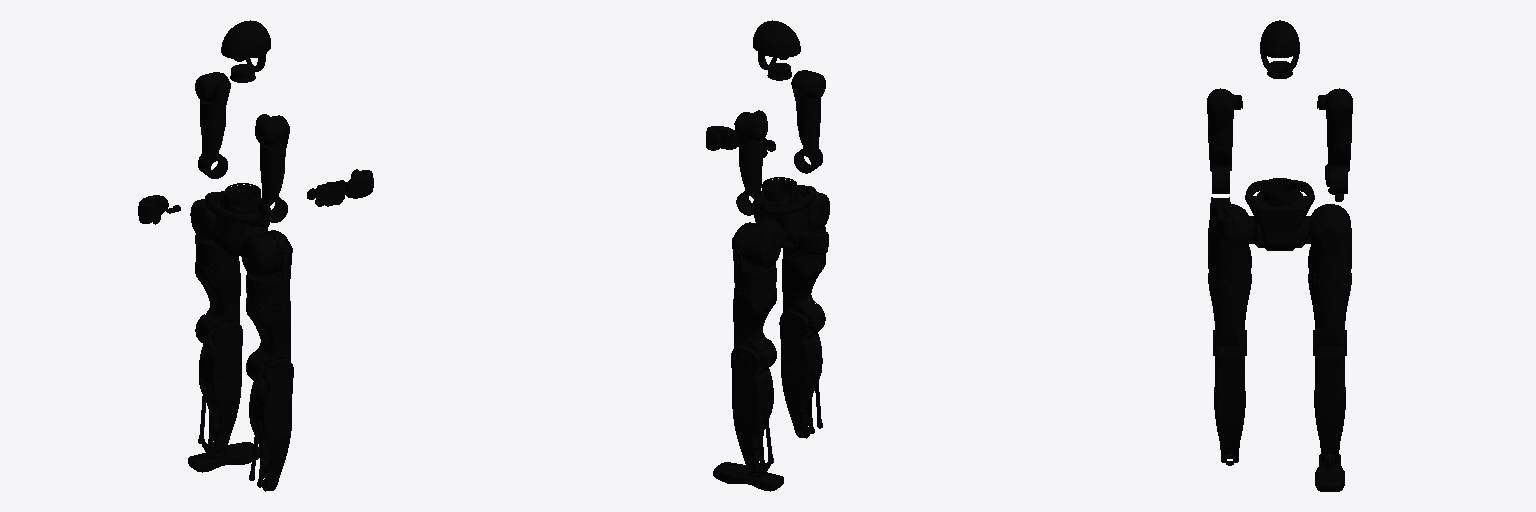
--- What the picture shows (computed from the rendered views, not written in the file) ---
Views: 3 orthographic renders of the robot side by side, from view 1: azimuth 30°, elevation 25°; view 2: azimuth 150°, elevation 25°; view 3: azimuth 270°, elevation 25°.
Robot: lus2 — 29 links, 28 joints (28 revolute); root link pelvis; default pose: all joints at 0.
Links seen in each view (by area): view 1: left_knee_link, right_knee_link, pelvis, left_hip_yaw_link, right_hip_yaw_link, head_link, right_hip_roll_link, right_hip_pitch_link, left_ankle_roll_link, right_shoulder_roll_link, right_shoulder_yaw_link, left_shoulder_yaw_link (+8 smaller); view 2: right_knee_link, left_knee_link, pelvis, left_hip_yaw_link, right_hip_yaw_link, head_link, left_hip_roll_link, left_hip_pitch_link, left_ankle_roll_link, left_shoulder_roll_link, left_shoulder_yaw_link, right_shoulder_yaw_link (+5 smaller); view 3: pelvis, left_knee_link, right_knee_link, left_hip_roll_link, right_hip_yaw_link, left_hip_yaw_link, right_hip_roll_link, head_link, right_shoulder_roll_link, left_shoulder_roll_link, left_shoulder_yaw_link, right_shoulder_yaw_link (+3 smaller).
Link boxes in pixels (<box>): left_knee_link: <box>198,320,242,453</box>; right_knee_link: <box>249,357,293,490</box>; pelvis: <box>205,183,270,256</box>; left_hip_yaw_link: <box>195,261,240,352</box>; right_hip_yaw_link: <box>246,297,290,389</box>; head_link: <box>221,20,270,82</box>; right_hip_roll_link: <box>246,230,292,304</box>; right_hip_pitch_link: <box>238,227,281,277</box>; left_ankle_roll_link: <box>188,440,259,472</box>; right_shoulder_roll_link: <box>260,115,289,174</box>; right_shoulder_yaw_link: <box>257,172,287,222</box>; left_shoulder_yaw_link: <box>198,128,227,178</box>; right_knee_link: <box>779,308,822,437</box>; left_knee_link: <box>731,344,773,473</box>; pelvis: <box>752,177,816,247</box>; left_hip_yaw_link: <box>733,288,776,375</box>; right_hip_yaw_link: <box>782,251,825,339</box>; head_link: <box>753,20,800,80</box>; left_hip_roll_link: <box>732,222,776,293</box>; left_hip_pitch_link: <box>742,219,784,268</box>; left_ankle_roll_link: <box>713,461,783,491</box>; left_shoulder_roll_link: <box>734,112,762,168</box>; left_shoulder_yaw_link: <box>736,166,765,215</box>; right_shoulder_yaw_link: <box>794,124,822,173</box>; pelvis: <box>1245,178,1314,250</box>; left_knee_link: <box>1313,330,1346,462</box>; right_knee_link: <box>1213,330,1246,462</box>; left_hip_roll_link: <box>1308,212,1351,280</box>; right_hip_yaw_link: <box>1208,273,1251,346</box>; left_hip_yaw_link: <box>1308,273,1351,346</box>; right_hip_roll_link: <box>1208,212,1251,280</box>; head_link: <box>1260,20,1299,78</box>; right_shoulder_roll_link: <box>1207,91,1234,148</box>; left_shoulder_roll_link: <box>1325,91,1352,148</box>; left_shoulder_yaw_link: <box>1327,144,1350,193</box>; right_shoulder_yaw_link: <box>1209,145,1232,193</box>.
Bounding box of the posed robot: 0.6577 × 0.4688 × 1.6 m (x, y, z).
Meshes: 31 distinct files referenced, 23 mesh visuals loaded (23 binary STL); not drawn: 8 (reference not matched to a file when rendering).

The robot description file, URDF, robot "lus2":
<?xml version="1.0" encoding="utf-8"?>
<!-- This URDF was automatically created by SolidWorks to URDF Exporter! Originally created by Stephen Brawner ([email redacted]) 
     Commit Version: 1.6.0-4-g7f85cfe  Build Version: 1.6.7995.38578
     For more information, please see http://wiki.ros.org/sw_urdf_exporter -->
<robot name="lus2">
  <mujoco>
        <compiler meshdir="../meshes" discardvisual="false" />
  </mujoco>
  
  <!-- <link name="base">
    <inertial>
      <origin xyz="0 0 0" rpy="0 0 0" />
      <mass value="0.0001" />
      <inertia
        ixx="0.0000000"
        ixy="0.0000000"
        ixz="0.0000000"
        iyy="0.0000000"
        iyz="0.0000000"
        izz="0.0000000" />
    </inertial>
    <visual>
      <origin xyz="0 0 0" rpy="0 0 0" />
      <geometry>
        <box size = "0.001 0.001 0.001"/>
      </geometry>
      <material name="a">
        <color rgba="0.05 0.05 0.05 1" />
      </material>
    </visual>
    <collision>
      <origin xyz="0 0 0" rpy="0 0 0" />
      <geometry>
        <box size = "0.001 0.001 0.001"/>
      </geometry>
    </collision>
  </link>

  <joint name="floating_base_joint" type="fixed">
    <origin xyz="0 0 0" rpy="0 0 0" />
    <parent link="base" />
    <child link="pelvis" />
  </joint> -->

  <link name="pelvis">
    <inertial>
      <origin xyz="-3.1659855E-03  0.0000000 -0.0930236E-01" rpy="0 0 0" />
      <mass value="6.7964049" />
      <inertia
        ixx="3.9641975E-02"
        ixy="0.0000000"
        ixz="1.2568204E-03"
        iyy="3.5762219E-02"
        iyz="0.0000000"
        izz="2.2011165E-02" />
    </inertial>
    <visual>
      <origin xyz="0 0 0.1" rpy="0 0 0" />
      <geometry>
        <mesh filename="../meshes/pelvis.STL" />
      </geometry>
      <material name="a">
        <color rgba="0.05 0.05 0.05 1" />
      </material>
    </visual>
    <!-- <collision>
      <origin xyz="0 0 0" rpy="0 0 0" />
      <geometry>
        <mesh filename="../meshes/pelvis.STL" />
      </geometry>
    </collision> -->
    <collision>
      <origin xyz="0 0 0.0" rpy="0 0 0" />
      <geometry>
        <cylinder radius="0.0572" length="0.1883" />
      </geometry>
    </collision>
  </link>

  <link name="left_hip_pitch_link">
    <inertial>
      <origin xyz="-2.0168256E-02  8.2216101E-02  0.0000000" rpy="0 0 0" />
      <mass value="2.4277335" />
      <inertia
        ixx="6.1432167E-03"
        ixy="4.8775061E-04"
        ixz="0.0000000"
        iyy="3.6201357E-03"
        iyz="0.0000000"
        izz="5.1618570E-03" />
    </inertial>
    <visual>
      <origin xyz="0 0 0.0" rpy="0 0 0" />
      <geometry>
        <mesh filename="../meshes/left_hip_pitch_link.STL" />
      </geometry>
      <material name="a">
        <color rgba="0.05 0.05 0.05 1" />
      </material>
    </visual>
    <collision>
      <origin xyz="0 0 0" rpy="0 0 0" />
      <geometry>
        <mesh filename="../meshes/left_hip_pitch_link.STL" />
      </geometry>
    </collision>
    <!-- <collision>
      <origin xyz="0 0.01 0" rpy="1.57 0 0" />
      <geometry>
        <cylinder radius="0.045" length="0.0234" />
      </geometry>
    </collision> -->
  </link>

  <joint name="left_hip_pitch_joint" type="revolute">
    <origin xyz="0 0.068 -0.056" rpy="0 0 0" />
    <parent link="pelvis" />
    <child link="left_hip_pitch_link" />
    <axis xyz="0 1 0" />
    <limit lower="-1.5" upper="1.5" effort="300" velocity="11" />
  </joint>

  <link name="left_hip_roll_link">
    <inertial>
      <origin xyz="-2.3116200E-03 -3.6364046E-04 -8.1422005E-02" rpy="0 0 0" />
      <mass value="3.1551632" />
      <inertia
        ixx="1.2134241E-02"
        ixy="-4.1927788E-05"
        ixz="-1.9137034E-03"
        iyy="1.1479866E-02"
        iyz="-1.2177975E-04"
        izz="7.1752202E-03" />
    </inertial>
    <visual>
      <origin xyz="0 0 0" rpy="0 0 0" />
      <geometry>
        <mesh filename="../meshes/left_hip_roll_link.STL" />
      </geometry>
      <material name="a">
        <color rgba="0.05 0.05 0.05 1" />
      </material>
    </visual>
    <collision>
      <origin xyz="0 0 0" rpy="0 0 0" />
      <geometry>
        <mesh filename="../meshes/left_hip_roll_link.STL" />
      </geometry>
    </collision>
    <!-- <collision>
      <origin xyz="-0.01 0 0" rpy="0 1.57 0" />
      <geometry>
        <cylinder radius="0.065" length="0.13" />
      </geometry>
    </collision> -->
  </link>

  <joint name="left_hip_roll_joint" type="revolute">
    <origin xyz="0 0.092 0" rpy="0 0 0" />
    <parent link="left_hip_pitch_link" />
    <child link="left_hip_roll_link" />
    <axis xyz="1 0 0" />
    <limit lower="-0.25" upper="2.8" effort="300" velocity="11" />
  </joint>

  <link name="left_hip_yaw_link">
    <inertial>
      <origin xyz="6.4280485E-03 -3.5846370E-03 -1.8449587E-01" rpy="0 0 0" />
      <mass value="3.3522325" />
      <inertia
        ixx="3.8105084E-02"
        ixy="-7.7153373E-05"
        ixz="-7.3176284E-04"
        iyy="3.9597910E-02"
        iyz="-9.0739735E-04"
        izz="7.1960830E-03" />
    </inertial>
    <visual>
      <origin xyz="0 0 0" rpy="0 0 0" />
      <geometry>
        <mesh filename="../meshes/left_hip_yaw_link.STL" />
      </geometry>
      <material name="a">
        <color rgba="0.05 0.05 0.05 1" />
      </material>
    </visual>
    <collision>
      <origin xyz="0 0 0" rpy="0 0 0" />
      <geometry>
        <mesh filename="../meshes/left_hip_yaw_link.STL" />
      </geometry>
    </collision> 

    <!-- <collision>
      <origin xyz="0 0 0" rpy="0 0 0" />
      <geometry>
        <cylinder radius="0.0708" length="0.142" />
      </geometry>
    </collision> -->
  </link>

  <joint name="left_hip_yaw_joint" type="revolute">
    <origin xyz="0 0 -0.1395" rpy="0 0 0" />
    <parent link="left_hip_roll_link" />
    <child link="left_hip_yaw_link" />
    <axis xyz="0 0 1" />
    <limit lower="-1.2" upper="2.6" effort="300" velocity="11" />
  </joint>

  <link name="left_knee_link">
    <inertial>
      <origin xyz="9.7804057e-03 -1.2159820e-03 -1.1000733e-01" rpy="0 0 0" />
      <mass value="5.3828222" />
      <inertia
        ixx="7.1014736e-02"
        ixy="-6.3321397e-05"
        ixz="9.4868042e-04"
        iyy="7.2059618e-02"
        iyz="1.0601703e-03"
        izz="8.1731788e-03" />
    </inertial>
    <visual>
      <origin xyz="0 0 0" rpy="0 0 0" />
      <geometry>
        <mesh filename="../meshes/left_knee_link_v1.STL" />
      </geometry>
      <material name="a">
        <color rgba="0.05 0.05 0.05 1" />
      </material>
    </visual>
    <collision>
      <origin xyz="0 0 0" rpy="0 0 0" />
      <geometry>
        <mesh filename="../meshes/left_knee_link.STL" />
      </geometry>
    </collision> 
    <!--
    <collision>
      <origin xyz="0 0 -0.13" rpy="0 0 0" />
      <geometry>
        <box size = "0.109 0.095 0.278"/>
      </geometry>
    </collision> -->
  </link>

  <joint name="left_knee_joint" type="revolute">
    <origin xyz="0 0 -0.26" rpy="0 0 0" />
    <parent link="left_hip_yaw_link" />
    <child link="left_knee_link" />
    <axis xyz="0 1 0" />
    <limit lower="0.0" upper="2.27" effort="300" velocity="11" />
  </joint>

  <link name="left_ankle_pitch_link">
    <inertial>
      <origin xyz="-3.1002626e-04  1.1061714e-05 -4.2515953e-03" rpy="0 0 0" />
      <mass value="1.6375855e-01" />
      <inertia
        ixx="5.5690573e-05"
        ixy="-2.3322493e-10"
        ixz="-3.1117387e-07"
        iyy="2.3118959e-05"
        iyz="4.0748259e-10"
        izz="5.5144716e-05" />
    </inertial>
    <visual>
      <origin xyz="0 0 0" rpy="0 0 0" />
      <geometry>
        <mesh filename="../meshes/left_ankle_pitch_link.STL" />
      </geometry>
      <material name="a">
        <color rgba="0.05 0.05 0.05 1" />
      </material>
    </visual>
    <collision>
      <origin xyz="0 0 0" rpy="0 0 0" />
      <geometry>
        <mesh filename="../meshes/left_ankle_pitch_link.STL" />
      </geometry>
    </collision>
    <!-- <collision>
      <origin xyz="0 0 0" rpy="1.57 0 0" />
      <geometry>
        <cylinder radius="0.009" length="0.032" />
      </geometry>
    </collision> -->
  </link>

  <joint name="left_ankle_pitch_joint" type="revolute">
    <origin xyz="0 0 -0.4" rpy="0 0 0" />
    <parent link="left_knee_link" />
    <child link="left_ankle_pitch_link" />
    <axis xyz="0 1 0" />
    <limit lower="-1.0" upper="0.43" effort="100" velocity="14" />
  </joint>

  <link name="left_ankle_roll_link">
    <inertial>
      <origin xyz="1.7804206e-02  0.0000000e+00 -2.2944985e-02" rpy="0 0 0" />
      <mass value="3.2840177e-01" />
      <inertia
        ixx="2.3276192e-04"
        ixy="0.0000000"
        ixz="9.9000753e-05"
        iyy="1.3849144e-03"
        iyz="0.0000000"
        izz="1.4703900e-03" />
    </inertial>
    <visual>
      <origin xyz="0 0 0" rpy="0 0 0" />
      <geometry>
        <mesh filename="../meshes/left_ankle_roll_link_v1.STL" />
      </geometry>
      <material name="a">
        <color rgba="0.05 0.05 0.05 1" />
      </material>
    </visual>
    <!-- <collision>
      <origin xyz="0 0 0" rpy="0 0 0" />
      <geometry>
        <mesh filename="../meshes/left_ankle_roll_link.STL" />
      </geometry>
    </collision> -->


    <collision>
      <origin xyz="0.025 0 -0.03385" rpy="0 0 0" />
      <geometry>
        <box size = "0.235 0.073 0.0143"/>
      </geometry>
    </collision>

   <collision>
      <origin xyz="-0.085 0.035 -0.04" rpy="0 0 0"/>
      <geometry>
        <sphere radius="0.005"/>
      </geometry>
    </collision>
    <collision>
      <origin xyz="-0.085 -0.035 -0.04" rpy="0 0 0"/>
      <geometry>
        <sphere radius="0.005"/>
      </geometry>
    </collision>
    <collision>
      <origin xyz="0.135 0.035 -0.04" rpy="0 0 0"/>
      <geometry>
        <sphere radius="0.005"/>
      </geometry>
    </collision>
    <collision>
      <origin xyz="0.135 -0.035 -0.04" rpy="0 0 0"/>
      <geometry>
        <sphere radius="0.005"/>
      </geometry>
    </collision>
    <collision>
      <origin xyz="0.05 -0.045 -0.04" rpy="0 0 0"/>
      <geometry>
        <sphere radius="0.005"/>
      </geometry>
    </collision>
    <collision>
      <origin xyz="0.05 0.045 -0.04" rpy="0 0 0"/>
      <geometry>
        <sphere radius="0.005"/>
      </geometry>
    </collision>
    <collision>
      <origin xyz="0.145 -0.0 -0.04" rpy="0 0 0"/>
      <geometry>
        <sphere radius="0.005"/>
      </geometry>
    </collision>
    <collision>
      <origin xyz="-0.09 -0.0 -0.04" rpy="0 0 0"/>
      <geometry>
        <sphere radius="0.005"/>
      </geometry>
    </collision>
 

  </link>

  <joint name="left_ankle_roll_joint" type="revolute">
    <origin xyz="0 0 -0.01" rpy="0 0 0" />
    <parent link="left_ankle_pitch_link" />
    <child link="left_ankle_roll_link" />
    <axis xyz="1 0 0" />
    <limit lower="-0.43" upper="0.43" effort="100" velocity="14" />
  </joint>

  <link name="right_hip_pitch_link">
    <inertial>
      <origin xyz="-2.0168256E-02 -8.2216101E-02  0.0000000" rpy="0 0 0" />
      <mass value="2.4277335" />
      <inertia
        ixx="6.1432167E-03"
        ixy="-4.8775061E-04"
        ixz="0.0000000"
        iyy="3.6201357E-03"
        iyz="0.0000000"
        izz="5.1618570E-03" />
    </inertial>
    <visual>
      <origin xyz="0 0 0" rpy="0 0 0" />
      <geometry>
        <mesh filename="../meshes/right_hip_pitch_link.STL" />
      </geometry>
      <material name="a">
        <color rgba="0.05 0.05 0.05 1" />
      </material>
    </visual>
    <collision>
      <origin xyz="0 0 0"  rpy="0 0 0" />
      <geometry>
        <mesh filename="../meshes/right_hip_pitch_link.STL" />
      </geometry>
    </collision>
    <!-- <collision>
      <origin xyz="0 -0.01 0" rpy="1.57 0 0" />
      <geometry>
        <cylinder radius="0.045" length="0.0234" />
      </geometry>
    </collision> -->
  </link>

  <joint name="right_hip_pitch_joint" type="revolute">
    <origin xyz="0 -0.068 -0.056" rpy="0 0 0" />
    <parent link="pelvis" />
    <child link="right_hip_pitch_link" />
    <axis xyz="0 1 0" />
    <limit lower="-1.5" upper="1.5" effort="300" velocity="11" />
  </joint>

  <link name="right_hip_roll_link">
    <inertial>
      <origin xyz="-2.3116409E-03  3.6367554E-04 -8.1422055E-02" rpy="0 0 0" />
      <mass value="3.1551628" />
      <inertia
        ixx="1.2134227E-02"
        ixy="4.1929406E-05"
        ixz="-1.9137018E-03"
        iyy="1.1479853E-02"
        iyz="1.2177538E-04"
        izz="7.1752213E-03" />
    </inertial>
    <visual>
      <origin xyz="0 0 0" rpy="0 0 0" />
      <geometry>
        <mesh filename="../meshes/right_hip_roll_link.STL" />
      </geometry>
      <material name="a">
        <color rgba="0.05 0.05 0.05 1" />
      </material>
    </visual>
    <collision>
      <origin xyz="0 0 0" rpy="0 0 0" />
      <geometry>
        <mesh filename="../meshes/right_hip_roll_link.STL" />
      </geometry>
    </collision>
    <!-- <collision>
      <origin xyz="-0.01 0 0" rpy="0 1.57 0" />
      <geometry>
        <cylinder radius="0.065" length="0.13" />
      </geometry>
    </collision> -->
  </link>

  <joint name="right_hip_roll_joint" type="revolute">
    <origin  xyz="0 -0.092 0" rpy="0 0 0" />
    <parent link="right_hip_pitch_link" />
    <child link="right_hip_roll_link" />
    <axis xyz="1 0 0" />
    <limit lower="-2.8" upper="0.25" effort="300" velocity="11" />
  </joint>

  <link name="right_hip_yaw_link">
    <inertial>
      <origin xyz="6.4280485E-03  3.5846369E-03 -1.8449587E-01" rpy="0 0 0" />
      <mass value="3.3522326" />
      <inertia
        ixx="3.8105084E-02"
        ixy="7.7153371E-05"
        ixz="-7.3176284E-04"
        iyy="3.9597910E-02"
        iyz="9.0739735E-04"
        izz="7.1960830E-03" />
    </inertial>
    <visual>
      <origin xyz="0 0 0" rpy="0 0 0" />
      <geometry>
        <mesh filename="../meshes/right_hip_yaw_link.STL" />
      </geometry>
      <material name="a">
        <color rgba="0.05 0.05 0.05 1" />
      </material>
    </visual>
    <collision>
      <origin xyz="0 0 0" rpy="0 0 0" />
      <geometry>
        <mesh filename="../meshes/right_hip_yaw_link.STL" />
      </geometry>
    </collision>
    <!-- <collision>
      <origin xyz="0 0 0" rpy="0 0 0" />
      <geometry>
        <cylinder radius="0.0708" length="0.142" />
      </geometry>
    </collision> -->
  </link>

  <joint name="right_hip_yaw_joint" type="revolute">
    <origin xyz="0 0 -0.1395" rpy="0 0 0" />
    <parent link="right_hip_roll_link" />
    <child link="right_hip_yaw_link" />
    <axis xyz="0 0 1" />
    <limit lower="-2.6" upper="1.2" effort="300" velocity="11" />
  </joint>

  <link name="right_knee_link">
    <inertial>
      <origin xyz="9.7804052e-03  1.2159799e-03 -1.1000734e-01" rpy="0 0 0" />
      <mass value="5.3828227" />
      <inertia
        ixx="7.1014747e-02"
        ixy="6.3321335e-05"
        ixz="9.4868006e-04"
        iyy="7.2059629e-02"
        iyz="-1.0601720e-03"
        izz="8.1731791e-03" />
    </inertial>
    <visual>
      <origin xyz="0 0.0 0" rpy="0 0 0" />
      <geometry>
        <mesh filename="../meshes/right_knee_link_v1.STL" />
      </geometry>
      <material name="a">
        <color rgba="0.05 0.05 0.05 1" />
      </material>
    </visual>
    <collision>
      <origin xyz="0 0 0" rpy="0 0 0" />
      <geometry>
        <mesh filename="../meshes/right_knee_link.STL" />
      </geometry>
    </collision>
    <!-- <collision>
      <origin xyz="0 0 -0.13" rpy="0 0 0" />
      <geometry>
        <box size = "0.109 0.095 0.278"/>
      </geometry>
    </collision> -->
  </link>

  <joint name="right_knee_joint" type="revolute">
    <origin xyz="0 0 -0.26" rpy="0 0 0" />
    <parent link="right_hip_yaw_link" />
    <child link="right_knee_link" />
    <axis xyz="0 1 0" />
    <limit lower="0.0" upper="2.27" effort="300" velocity="11" />
  </joint>

  <link name="right_ankle_pitch_link">
    <inertial>
      <origin xyz="-3.1002626e-04  1.1061714e-05 -4.2515953e-03" rpy="0 0 0" />
      <mass value="1.6375855e-01" />
      <inertia
        ixx="5.5690573e-05"
        ixy="-2.3322493e-10"
        ixz="-3.1117387e-07"
        iyy="2.3118959e-05"
        iyz="4.0748259e-10"
        izz="5.5144716e-05" />
    </inertial>
    <visual>
      <origin xyz="0 0 0" rpy="0 0 0" />
      <geometry>
        <mesh filename="../meshes/right_ankle_pitch_link.STL" />
      </geometry>
      <material name="a">
        <color rgba="0.05 0.05 0.05 1" />
      </material>
    </visual>
    <!-- <collision>
      <origin xyz="0 0 0" rpy="0 0 0" />
      <geometry>
        <mesh filename="../meshes/right_ankle_pitch_link.STL" />
      </geometry>
    </collision> -->
    <collision>
      <origin xyz="0 0 0" rpy="1.57 0 0" />
      <geometry>
        <cylinder radius="0.009" length="0.032" />
      </geometry>
    </collision>
  </link>

  <joint name="right_ankle_pitch_joint" type="revolute">
    <origin xyz="0 0 -0.4" rpy="0 0 0" />
    <parent link="right_knee_link" />
    <child link="right_ankle_pitch_link" />
    <axis xyz="0 1 0" />
    <limit lower="-1.0" upper="0.43" effort="100" velocity="14" />
  </joint>

  <link name="right_ankle_roll_link">
    <inertial>
      <origin xyz="1.7804206e-02  0.0000000e+00 -2.2944985e-02" rpy="0 0 0" />
      <mass value="3.2840177e-01" />
      <inertia
        ixx="2.3276192e-04"
        ixy="0.0000000"
        ixz="9.9000753e-05"
        iyy="1.3849144e-03"
        iyz="0.0000000"
        izz="1.4703900e-03" />
    </inertial>
    <visual>
      <origin xyz="-0.00 0.00 0" rpy="0 0 0" />
      <geometry>
        <mesh filename="../meshes/right_ankle_roll_link_v1.STL" />
      </geometry>
      <material name="a">
        <color rgba="0.05 0.05 0.05 1" />
      </material>
    </visual>
    <!-- <collision>
      <origin xyz="0 0 0" rpy="0 0 0" />
      <geometry>
        <mesh filename="../meshes/right_ankle_roll_link.STL" />
      </geometry>
    </collision> -->
    
    <collision>
      <origin xyz="0.025 0 -0.03385" rpy="0 0 0" />
      <geometry>
        <box size = "0.235 0.073 0.0143"/>
      </geometry>
    </collision>
    


   <collision>
      <origin xyz="-0.085 0.035 -0.04" rpy="0 0 0"/>
      <geometry>
        <sphere radius="0.005"/>
      </geometry>
    </collision>
    <collision>
      <origin xyz="-0.085 -0.035 -0.04" rpy="0 0 0"/>
      <geometry>
        <sphere radius="0.005"/>
      </geometry>
    </collision>
    <collision>
      <origin xyz="0.135 0.035 -0.04" rpy="0 0 0"/>
      <geometry>
        <sphere radius="0.005"/>
      </geometry>
    </collision>
    <collision>
      <origin xyz="0.135 -0.035 -0.04" rpy="0 0 0"/>
      <geometry>
        <sphere radius="0.005"/>
      </geometry>
    </collision>
    <collision>
      <origin xyz="0.05 -0.045 -0.04" rpy="0 0 0"/>
      <geometry>
        <sphere radius="0.005"/>
      </geometry>
    </collision>
    <collision>
      <origin xyz="0.05 0.045 -0.04" rpy="0 0 0"/>
      <geometry>
        <sphere radius="0.005"/>
      </geometry>
    </collision>
    <collision>
      <origin xyz="0.145 -0.0 -0.04" rpy="0 0 0"/>
      <geometry>
        <sphere radius="0.005"/>
      </geometry>
    </collision>
    <collision>
      <origin xyz="-0.09 -0.0 -0.04" rpy="0 0 0"/>
      <geometry>
        <sphere radius="0.005"/>
      </geometry>
    </collision>

  </link>

  <joint name="right_ankle_roll_joint" type="revolute">
    <origin xyz="0 0 -0.01" rpy="0 0 0" />
    <parent link="right_ankle_pitch_link" />
    <child link="right_ankle_roll_link" />
    <axis xyz="1 0 0" />
    <limit lower="-0.43" upper="0.43" effort="100" velocity="14" />
  </joint>

  <link name="torso_link">
    <inertial>
      <origin xyz="-2.3606484E-03  2.8289136E-04  2.3074545E-01" rpy="0 0 0" />
      <mass value="1.0563174E+01" />
      <inertia
        ixx="1.3744844E-01"
        ixy="1.3568744E-04"
        ixz="5.7196351E-03"
        iyy="1.1331419E-01"
        iyz="-4.6372000E-04"
        izz="6.5891007E-02" />
    </inertial>
    <visual>
      <origin xyz="0 0 0" rpy="0 0 0" />
      <geometry>
        <mesh filename="../meshes/torso_link.STL" />
      </geometry>
      <material name="a">
        <color rgba="0.05 0.05 0.05 1" />
      </material>
    </visual>
    <collision>
      <origin xyz="0 0 0" rpy="0 0 0" />
      <geometry>
        <mesh filename="../meshes/torso_link.STL" />
      </geometry>
    </collision>
    <!-- <collision>
      <origin xyz="0.0065 0.0 0.21" rpy="0 0 0" />
      <geometry>
        <box size = "0.205 0.178 0.246"/>
      </geometry>
    </collision> -->
  </link>

  <joint name="torso_joint" type="revolute">
    <origin xyz="0 0 0.1" rpy="0 0 0" />
    <parent link="pelvis" />
    <child link="torso_link" />
    <axis xyz="0 0 1" />
    <limit lower="-3" upper="3" effort="300" velocity="11" />
  </joint>

  <link name="head_link">
    <inertial>
      <origin xyz="0.00822737744778477 -0.000198850473705812 0.107120349130616" rpy="0 0 0" />
      <mass value="1.02775179782002" />
      <inertia
        ixx="0.00169703133506373"
        ixy="2.89967965428031E-07"
        ixz="0.000184215223504519"
        iyy="0.00191732132579063"
        iyz="1.69965812692335E-07"
        izz="0.00219567889747987" />
    </inertial>
    <visual>
      <origin xyz="0 0 0" rpy="0 0 0" />
      <geometry>
        <mesh filename="../meshes/head_link.STL" />
      </geometry>
      <material name="a">
        <color rgba="0.05 0.05 0.05 1" />
      </material>
    </visual>
    <!-- <collision>
      <origin xyz="0 0 0" rpy="0 0 0" />
      <geometry>
        <mesh filename="../meshes/head_link.STL" />
      </geometry>
    </collision> -->
    <collision>
      <origin xyz="0 0 0.11" rpy="0 0 0" />
      <geometry>
        <sphere radius="0.08" />
      </geometry>
    </collision>
  </link>

  <joint name="head_joint" type="revolute">
    <origin xyz="0 0 0.3875" rpy="0 0 0" />
    <parent link="torso_link" />
    <child link="head_link" />
    <axis xyz="0 0 1" />
    <limit lower="-1.3" upper="1.3" effort="17" velocity="87" />
  </joint>

  <link name="left_shoulder_pitch_link">
    <inertial>
      <origin xyz="-1.9833474e-02 4.4431912e-02 -5.5587489e-06" rpy="0 0 0" />
      <mass value="3.0353084e-01" />
      <inertia
        ixx="3.9643671e-04"
        ixy="9.9021623e-05"
        ixz="2.2578362e-09"
        iyy="1.6487917e-04"
        iyz="-2.0641827e-08"
        izz="3.8208098e-04" />
    </inertial>
    <visual>
      <origin xyz="0 0 0" rpy="0 0 0" />
      <geometry>
        <mesh filename="../meshes/left_shoulder_pitch_link.STL" />
      </geometry>
      <material name="a">
        <color rgba="0.05 0.05 0.05 1" />
      </material>
    </visual>
    <!-- <collision>
      <origin xyz="0 0 0" rpy="0 0 0" />
      <geometry>
        <mesh filename="../meshes/left_shoulder_pitch_link.STL" />
      </geometry>
    </collision> -->
    <collision>
      <origin xyz="0 0.01 0" rpy="1.57 0 0" />
      <geometry>
        <cylinder radius="0.0244" length="0.018" />
      </geometry>
    </collision>
  </link>

  <joint name="left_shoulder_pitch_joint" type="revolute">
    <origin xyz="0 0.12095 0.29712" rpy="-0.17453 0 0" />
    <parent link="torso_link" />
    <child link="left_shoulder_pitch_link" />
    <axis xyz="0 1 0" />
    <limit lower="-3" upper="3" effort="100" velocity="14" />
  </joint>

  <link name="left_shoulder_roll_link">
    <inertial>
      <origin xyz="4.6571984e-03 -4.1483153e-05 -5.5419414e-02" rpy="0 0 0" />
      <mass value="1.6480208e+00" />
      <inertia
        ixx="5.2969146e-03"
        ixy="2.4490248e-06"
        ixz="-4.4137516e-04"
        iyy="5.2914384e-03"
        iyz="3.7517169e-06"
        izz="1.2519989e-03" />
    </inertial>
    <visual>
      <origin xyz="0 0 0" rpy="0 0 0" />
      <geometry>
        <mesh filename="../meshes/left_shoulder_roll_link.STL" />
      </geometry>
      <material name="a">
        <color rgba="0.05 0.05 0.05 1" />
      </material>
    </visual>
    <!-- <collision>
      <origin xyz="0 0 0" rpy="0 0 0" />
      <geometry>
        <mesh filename="../meshes/left_shoulder_roll_link.STL" />
      </geometry>
    </collision> -->
    <collision>
      <origin xyz="0 0 0" rpy="0 1.57 0" />
      <geometry>
        <cylinder radius="0.0447" length="0.1" />
      </geometry>
    </collision>
  </link>

  <joint name="left_shoulder_roll_joint" type="revolute">
    <origin xyz="0 0.0695 0" rpy="0.17453 0 0" />
    <parent link="left_shoulder_pitch_link" />
    <child link="left_shoulder_roll_link" />
    <axis xyz="1 0 0" />
    <limit lower="-0.12" upper="2.3" effort="100" velocity="14" />
  </joint>

  <link name="left_shoulder_yaw_link">
    <inertial>
      <origin xyz="-8.6588242e-04 2.7056403e-03 -1.1851791e-01" rpy="0 0 0"/>
      <mass value="1.0475838e+00"/>
      <inertia
        ixx="2.6989882e-03" 
        ixy="-2.9561127e-06" 
        ixz="4.3512567e-05" 
        iyy="2.7131219e-03" 
        iyz="6.1012281e-05" 
        izz="7.9314932e-04"/>
    </inertial>
    <visual>
      <origin xyz="0 0 0" rpy="0 0 0" />
      <geometry>
        <mesh filename="../meshes/left_shoulder_yaw_link.STL" />
      </geometry>
      <material name="a">
        <color rgba="0.05 0.05 0.05 1" />
      </material>
    </visual>
    <!-- <collision>
      <origin xyz="0 0 0" rpy="0 0 0" />
      <geometry>
        <mesh filename="../meshes/left_shoulder_yaw_link.STL" />
      </geometry>
    </collision> -->
    <collision>
      <origin xyz="0 0 0" rpy="0 0 0" />
      <geometry>
        <cylinder radius="0.03968" length="0.14" />
      </geometry>
    </collision>
  </link>

  <joint name="left_shoulder_yaw_joint" type="revolute">
    <origin xyz="0 0 -0.13" rpy="0 0 0" />
    <parent link="left_shoulder_roll_link" />
    <child link="left_shoulder_yaw_link" />
    <axis xyz="0 0 1" />
    <limit lower="-1.9" upper="1.9" effort="100" velocity="14" />
  </joint>

  <link name="left_elbow_link">
    <inertial>
      <origin xyz="-4.1060603e-03 -2.2547010e-03 -5.4775265e-02" rpy="0 -1.57 0"/>
      <mass value="8.1901234e-01"/>
      <inertia
        ixx="1.5966173e-03" 
        ixy="7.9254545e-06" 
        ixz="1.3979156e-04" 
        iyy="1.5435859e-03" 
        iyz="9.5459458e-05" 
        izz="8.6127913e-04"/>
    </inertial>
    <visual>
      <origin xyz="0 0 0" rpy="0 -1.57 0" />
      <geometry>
        <mesh filename="../meshes/left_elbow_link.STL" />
      </geometry>
      <material name="a">
        <color rgba="0.05 0.05 0.05 1" />
      </material>
    </visual>
    <!-- <collision>
      <origin xyz="0 0 0" rpy="0 0 0" />
      <geometry>
        <mesh filename="../meshes/left_elbow_link.STL" />
      </geometry>
    </collision> -->
    <collision>
      <origin xyz="0 0 0" rpy="0 -1.57 0" />
      <geometry>
        <cylinder radius="0.043" length="0.079" />
      </geometry>
    </collision>
  </link>

  <joint name="left_elbow_joint" type="revolute">
    <origin xyz="0 0 -0.14" rpy="0  0 0" />
    <parent link="left_shoulder_yaw_link" />
    <child link="left_elbow_link" />
    <axis xyz="0 1 0" />
    <limit lower="-0.83" upper="1.57" effort="100" velocity="14" />
  </joint>

  <link name="left_wrist_yaw_link">
    <inertial>
      <origin xyz="0.0000000e+00 -1.0598513e-03 -5.6717954e-02" rpy="0 -1.57 0"/>
      <mass value="6.1426733e-01"/>
      <inertia
        ixx="4.7121608e-04" 
        ixy="0.0000000e+00" 
        ixz="0.0000000e+00" 
        iyy="4.7891195e-04" 
        iyz="-5.3981771e-06" 
        izz="3.4979129e-04"/>
    </inertial>
    <visual>
      <origin xyz="0 0 0" rpy="0 -1.57 0" />
      <geometry>
        <mesh filename="../meshes/left_wrist_yaw_link.STL" />
      </geometry>
      <material name="a">
        <color rgba="0.05 0.05 0.05 1" />
      </material>
    </visual>
    <!-- <collision>
      <origin xyz="0 0 0" rpy="0 0 0" />
      <geometry>
        <mesh filename="../meshes/left_wrist_yaw_link.STL" />
      </geometry>
    </collision> -->
    <collision>
      <origin xyz="0 0 0.01" rpy="0 0 0" />
      <geometry>
        <cylinder radius="0.035" length="0.07" />
      </geometry>
    </collision>
  </link>

  <joint name="left_wrist_yaw_joint" type="revolute">
    <origin xyz="0 0 -0.0955" rpy="0 1.57 0" />
    <parent link="left_elbow_link" />
    <child link="left_wrist_yaw_link" />
    <axis xyz="0 0 1" />
    <limit lower="-2.3" upper="2.3" effort="17" velocity="87" />
  </joint>

  <link name="left_wrist_pitch_link">
    <inertial>
      <origin xyz="1.1625996e-03 -2.8266432e-04 -5.7702211e-02" rpy="0 0 0"/>
      <mass value="7.3227634e-01"/>
      <inertia
        ixx="9.4034722e-04" 
        ixy="-2.4040905e-07" 
        ixz="7.9367732e-06" 
        iyy="7.0409858e-04" 
        iyz="9.9802725e-06" 
        izz="5.4229049e-04"/>
    </inertial>
    <visual>
      <origin xyz="0 0 0" rpy="0 -1.57 0" />
      <geometry>
        <mesh filename="../meshes/left_wrist_pitch_link.STL" />
      </geometry>
      <material name="a">
        <color rgba="0.05 0.05 0.05 1" />
      </material>
    </visual>
    <!-- <collision>
      <origin xyz="0 0 0" rpy="0 0 0" />
      <geometry>
        <mesh filename="../meshes/left_wrist_pitch_link.STL" />
      </geometry>
    </collision> -->
    <collision>
      <origin xyz="0 0 0.0" rpy="1.57 0 0" />
      <geometry>
        <cylinder radius="0.032" length="0.064" />
      </geometry>
    </collision>
  </link>

  <joint name="left_wrist_pitch_joint" type="revolute">
    <origin xyz="0 0 -0.0645" rpy="0 0 0" />
    <parent link="left_wrist_yaw_link" />
    <child link="left_wrist_pitch_link" />
    <axis xyz="0 1 0" />
    <limit lower="-1.2" upper="1.2" effort="17" velocity="87" />
  </joint>

  <link name="left_wrist_roll_link">
    <inertial>
      <origin xyz="0.01916043 -0.00000117 -0.02394803" rpy="0 0 0" />
      <mass value="0.0380932" />
      <inertia
        ixx="0.00001604"
        ixy="0.00000000"
        ixz="0.00000518"
        iyy="0.00002008"
        iyz="0.00000000"
        izz="0.00000997" />
    </inertial>
    <visual>
      <origin xyz="0 0 0" rpy="0 0 0" />
      <geometry>
        <mesh filename="../meshes/left_wrist_roll_link.STL" />
      </geometry>
      <material name="a">
        <color rgba="0.05 0.05 0.05 1" />
      </material>
    </visual>


    <visual>
      <origin xyz="0 0 0" rpy="0 1.5708 0"/> <!-- 绕Y轴旋转90度 -->
      <geometry>
        <mesh filename="../meshes/left_hand_link.STL" scale="1 1 1"/>
      </geometry>
      <material name="hand_material">
        <color rgba="0.05 0.05 0.05 1"/>
      </material>
    </visual>
    <collision>
      <origin xyz="0 0 0" rpy="0 1.5708 0"/>
      <geometry>
        <mesh filename="../meshes/left_hand_link.STL" scale="1 1 1"/>
      </geometry>
    </collision>


    <!-- <collision>
      <origin xyz="0 0 0" rpy="0 0 0" />
      <geometry>
        <mesh filename="../meshes/left_wrist_roll_link.STL" />
      </geometry>
    </collision> -->
    <collision>
      <origin xyz="0 0 0" rpy="0 1.57 0" />
      <geometry>
        <cylinder radius="0.035" length="0.054" />
      </geometry>
    </collision>
  </link>

  <joint name="left_wrist_roll_joint" type="revolute">
    <origin xyz="0 0 -0.068" rpy="0 0 0" />
    <parent link="left_wrist_pitch_link" />
    <child link="left_wrist_roll_link" />
    <axis xyz="1 0 0" />
    <limit lower="-1.2" upper="1.2" effort="17" velocity="87" />
  </joint>

  <link name="right_shoulder_pitch_link">
    <inertial>
      <origin xyz="-1.9833474e-02 -4.4431912e-02 5.5587489e-06" rpy="0 0 0" />
      <mass value="3.0353084e-01" />
      <inertia
        ixx="3.9643671e-04"
        ixy="-9.9021623e-05"
        ixz="-2.2578362e-09"
        iyy="1.6487917e-04"
        iyz="-2.0641827e-08"
        izz="3.8208098e-04" />
    </inertial>
    <visual>
      <origin xyz="0 0 0" rpy="0 0 0" />
      <geometry>
        <mesh filename="../meshes/right_shoulder_pitch_link.STL" />
      </geometry>
      <material name="a">
        <color rgba="0.05 0.05 0.05 1" />
      </material>
    </visual>
    <!-- <collision>
      <origin xyz="0 0 0" rpy="0 0 0" />
      <geometry>
        <mesh filename="../meshes/right_shoulder_pitch_link.STL" />
      </geometry>
    </collision> -->
    <collision>
      <origin xyz="0 -0.01 0" rpy="1.57 0 0" />
      <geometry>
        <cylinder radius="0.0244" length="0.018" />
      </geometry>
    </collision>
  </link>

  <joint name="right_shoulder_pitch_joint" type="revolute">
    <origin xyz="0 -0.12095 0.29712" rpy="0.17453 0 0" />
    <parent link="torso_link" />
    <child link="right_shoulder_pitch_link" />
    <axis xyz="0 1 0" />
    <limit lower="-3" upper="3" effort="100" velocity="14" />
  </joint>

  <link name="right_shoulder_roll_link">
    <inertial>
      <origin xyz="4.6571984e-03 -4.1483153e-05 -5.5419414e-02" rpy="0 0 0" />
      <mass value="1.6480208e+00" />
      <inertia
        ixx="5.2969146e-03"
        ixy="2.4490248e-06"
        ixz="-4.4137516e-04"
        iyy="5.2914384e-03"
        iyz="3.7517169e-06"
        izz="1.2519989e-03" />
    </inertial>
    <visual>
      <origin xyz="0 0 0" rpy="0 0 0" />
      <geometry>
        <mesh filename="../meshes/right_shoulder_roll_link.STL" />
      </geometry>
      <material name="a">
        <color rgba="0.05 0.05 0.05 1" />
      </material>
    </visual>
    <!-- <collision>
      <origin xyz="0 0 0" rpy="0 0 0" />
      <geometry>
        <mesh filename="../meshes/right_shoulder_roll_link.STL" />
      </geometry>
    </collision> -->
    <collision>
      <origin xyz="0 0 0" rpy="0 1.57 0" />
      <geometry>
        <cylinder radius="0.0447" length="0.1" />
      </geometry>
    </collision>
  </link>

  <joint name="right_shoulder_roll_joint" type="revolute">
    <origin  xyz="0 -0.0695 0" rpy="-0.17453 0 0" />
    <parent link="right_shoulder_pitch_link" />
    <child link="right_shoulder_roll_link" />
    <axis xyz="1 0 0" />
    <limit lower="-2.3" upper="0.12" effort="100" velocity="14" />
  </joint>

  <link name="right_shoulder_yaw_link">
    <inertial>
      <origin xyz="-8.6588430e-04 -2.7056640e-03 -1.1851792e-01" rpy="0 0 0"/>
      <mass value="1.0475841e+00"/>
      <inertia
        ixx="2.6989886e-03" 
        ixy="2.9564818e-06" 
        ixz="4.3512321e-05" 
        iyy="2.7131223e-03" 
        iyz="-6.1008586e-05" 
        izz="7.9314938e-04"/>
    </inertial>
    <visual>
      <origin xyz="0 0 0" rpy="0 0 0" />
      <geometry>
        <mesh filename="../meshes/right_shoulder_yaw_link.STL" />
      </geometry>
      <material name="a">
        <color rgba="0.05 0.05 0.05 1" />
      </material>
    </visual>
    <!-- <collision>
      <origin xyz="0 0 0" rpy="0 0 0" />
      <geometry>
        <mesh filename="../meshes/right_shoulder_yaw_link.STL" />
      </geometry>
    </collision> -->
    <collision>
      <origin xyz="0 0 0" rpy="0 0 0" />
      <geometry>
        <cylinder radius="0.03968" length="0.14" />
      </geometry>
    </collision>
  </link>

  <joint name="right_shoulder_yaw_joint" type="revolute">
    <origin  xyz="0 0 -0.13" rpy="0 0 0" />
    <parent link="right_shoulder_roll_link" />
    <child link="right_shoulder_yaw_link" />
    <axis xyz="0 0 1" />
    <limit lower="-1.9" upper="1.9" effort="100" velocity="14" />
  </joint>

  <link name="right_elbow_link">
    <inertial>
      <origin xyz="-4.1060960e-03 2.2047439e-03 -5.4775204e-02" rpy="0 0 0"/>
      <mass value="8.1901252e-01"/>
      <inertia
        ixx="1.5966211e-03" 
        ixy="-7.9253657e-06" 
        ixz="1.3979204e-04" 
        iyy="1.5435872e-03" 
        iyz="-9.5461542e-05" 
        izz="8.6127887e-04"/>
    </inertial>
    <visual>
      <origin xyz="0 0 0" rpy="0 0 0" />
      <geometry>
        <mesh filename="../meshes/right_elbow_link.STL" />
      </geometry>
      <material name="a">
        <color rgba="0.05 0.05 0.05 1" />
      </material>
    </visual>
    <!-- <collision>
      <origin xyz="0 0 0" rpy="0 0 0" />
      <geometry>
        <mesh filename="../meshes/right_elbow_link.STL" />
      </geometry>
    </collision> -->
    <collision>
      <origin xyz="0 0 0" rpy="1.57 0 0" />
      <geometry>
        <cylinder radius="0.043" length="0.079" />
      </geometry>
    </collision>
  </link>

  <joint name="right_elbow_joint" type="revolute">
    <origin xyz="0 0 -0.14" rpy="0 -1.57 0" />
    <parent link="right_shoulder_yaw_link" />
    <child link="right_elbow_link" />
    <axis xyz="0 1 0" />
    <limit lower="-0.83" upper="1.57" effort="100" velocity="14" />
  </joint>

  <link name="right_wrist_yaw_link">
    <inertial>
      <origin xyz="0.0000000e+00 1.0598507e-03 -5.6717954e-02" rpy="0 0 0"/>
      <mass value="6.1426734e-01"/>
      <inertia
        ixx="4.7121609e-04" 
        ixy="0.0000000e+00" 
        ixz="0.0000000e+00" 
        iyy="4.7891196e-04" 
        iyz="5.3981743e-06" 
        izz="3.4979130e-04"/>
    </inertial>
    <visual>
      <origin xyz="0 0 0" rpy="0 0 0" />
      <geometry>
        <mesh filename="../meshes/right_wrist_yaw_link.STL" />
      </geometry>
      <material name="a">
        <color rgba="0.05 0.05 0.05 1" />
      </material>
    </visual>
    <!-- <collision>
      <origin xyz="0 0 0" rpy="0 0 0" />
      <geometry>
        <mesh filename="../meshes/right_wrist_yaw_link.STL" />
      </geometry>
    </collision> -->
    <collision>
      <origin xyz="0 0 0.01" rpy="0 0 0" />
      <geometry>
        <cylinder radius="0.035" length="0.07" />
      </geometry>
    </collision>
  </link>

  <joint name="right_wrist_yaw_joint" type="revolute">
    <origin xyz="0 0 -0.0955" rpy="0 0 0" />
    <parent link="right_elbow_link" />
    <child link="right_wrist_yaw_link" />
    <axis xyz="0 0 1" />
    <limit lower="-2.3" upper="2.3" effort="17" velocity="87" />
  </joint>

  <link name="right_wrist_pitch_link">
    <inertial>
      <origin xyz="1.1625992e-03 2.8270210e-04 -5.7702211e-02" rpy="0 0 0"/>
      <mass value="7.3227634e-01"/>
      <inertia
        ixx="9.4034721e-04" 
        ixy="2.4089482e-07" 
        ixz="7.9368648e-06" 
        iyy="7.0409858e-04" 
        iyz="-9.9796755e-06" 
        izz="5.4229047e-04"/>
    </inertial>
    <visual>
      <origin xyz="0 0 0" rpy="0 0 0" />
      <geometry>
        <mesh filename="../meshes/right_wrist_pitch_link.STL" />
      </geometry>
      <material name="a">
        <color rgba="0.05 0.05 0.05 1" />
      </material>
    </visual>
    <!-- <collision>
      <origin xyz="0 0 0" rpy="0 0 0" />
      <geometry>
        <mesh filename="../meshes/right_wrist_pitch_link.STL" />
      </geometry>
    </collision> -->
    <collision>
      <origin xyz="0 0 0.0" rpy="1.57 0 0" />
      <geometry>
        <cylinder radius="0.032" length="0.064" />
      </geometry>
    </collision>
  </link>

  <joint name="right_wrist_pitch_joint" type="revolute">
    <origin xyz="0 0 -0.0645" rpy="0 0 0" />
    <parent link="right_wrist_yaw_link" />
    <child link="right_wrist_pitch_link" />
    <axis xyz="0 1 0" />
    <limit lower="-1.2" upper="1.2" effort="17" velocity="87" />
  </joint>

  <link name="right_wrist_roll_link">
    <inertial>
      <origin xyz="0.01916043 -0.00000117 -0.02394803" rpy="0 0 0" />
      <mass value="0.0380932" />
      <inertia
        ixx="0.00001604"
        ixy="0.00000000"
        ixz="0.00000518"
        iyy="0.00002008"
        iyz="0.00000000"
        izz="0.00000997" />
    </inertial>
    <visual>
      <origin xyz="0 0 0" rpy="0 0 0" />
      <geometry>
        <mesh filename="../meshes/right_wrist_roll_link.STL" />
      </geometry>
      <material name="a">
        <color rgba="0.05 0.05 0.05 1" />
      </material>


    </visual>

    <visual>
      <origin xyz="0 0 0" rpy="0 1.5708 0"/>  <!-- 绕Y轴旋转90°，让拳头朝前 -->
      <geometry>
        <mesh filename="../meshes/right_hand_link.STL" scale="1 1 1"/>
      </geometry>
      <material name="hand_material_right">
        <color rgba="0.05 0.05 0.05 1"/>
      </material>
    </visual>
    <collision>
      <origin xyz="0 0 0" rpy="0 1.5708 0"/>
      <geometry>
        <mesh filename="../meshes/right_hand_link.STL" scale="1 1 1"/>
      </geometry>
    </collision>

    <!-- <collision>
      <origin xyz="0 0 0" rpy="0 0 0" />
      <geometry>
        <mesh filename="../meshes/right_wrist_roll_link.STL" />
      </geometry>
    </collision> -->
    <collision>
      <origin xyz="0 0 0" rpy="0 1.57 0" />
      <geometry>
        <cylinder radius="0.035" length="0.054" />
      </geometry>
    </collision>

  </link>

  <joint name="right_wrist_roll_joint" type="revolute">
    <origin xyz="0 0 -0.068" rpy="0 0 0" />
    <parent link="right_wrist_pitch_link" />
    <child link="right_wrist_roll_link" />
    <axis xyz="1 0 0" />
    <limit lower="-1.2" upper="1.2" effort="17" velocity="87" />
  </joint>
</robot>
